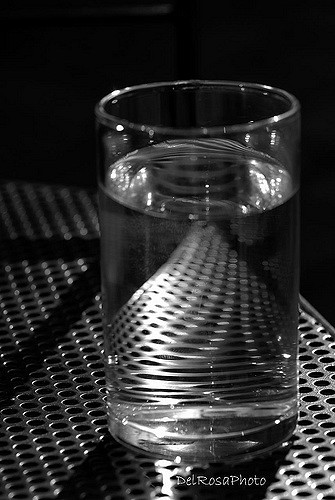glass of water: (93, 82, 301, 463)
